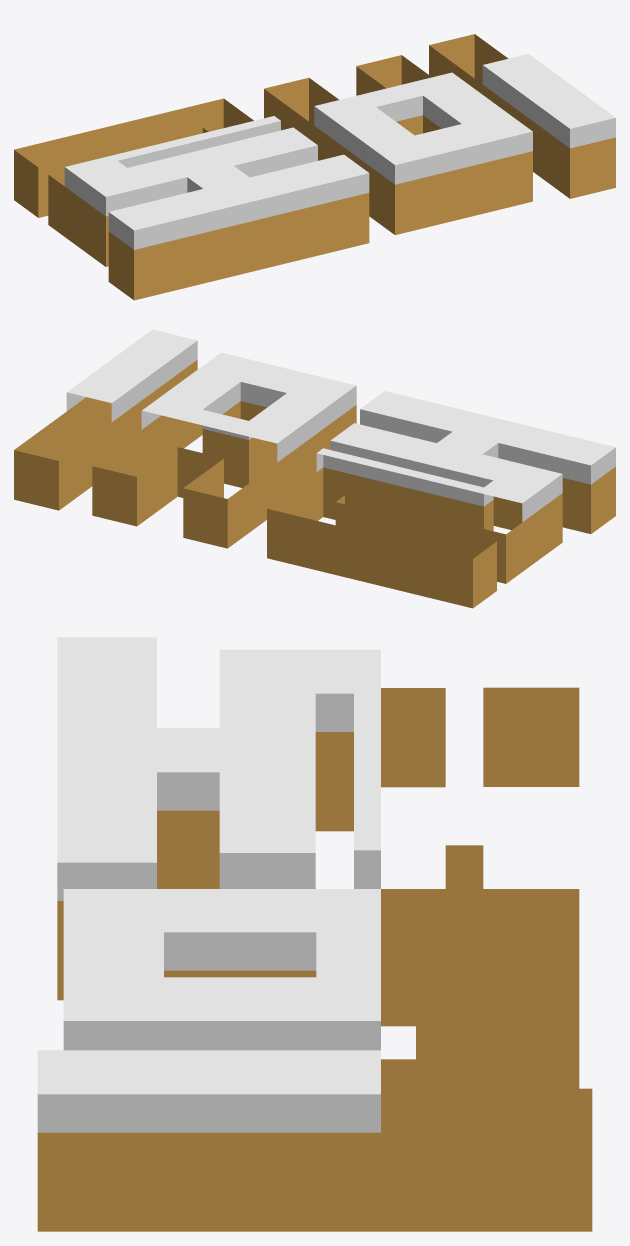
The model's file is loby.FBX.
The picture shows the model from 3 angles, top to bottom: view 1: azimuth 30°, elevation 25°; view 2: azimuth 150°, elevation 25°; view 3: azimuth 270°, elevation 25°; orthographic projection. The views are drawn at different scales.
Parts seen in each view (by area): view 1: Text007; view 2: Text007; view 3: Text007.
Boxes of the visible parts, bbox=[...] form: Text007: bbox=[14, 34, 615, 300]; Text007: bbox=[14, 329, 615, 608]; Text007: bbox=[37, 637, 592, 1231].
Size of the model in its own units: 2.83 by 0.3966 by 1.45.
